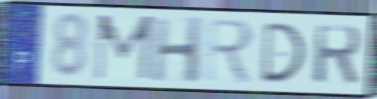8: (49, 11, 91, 82)
D: (259, 21, 308, 85)
H: (150, 15, 206, 86)
M: (91, 13, 157, 83)
R: (203, 16, 256, 87), (312, 23, 364, 88)
